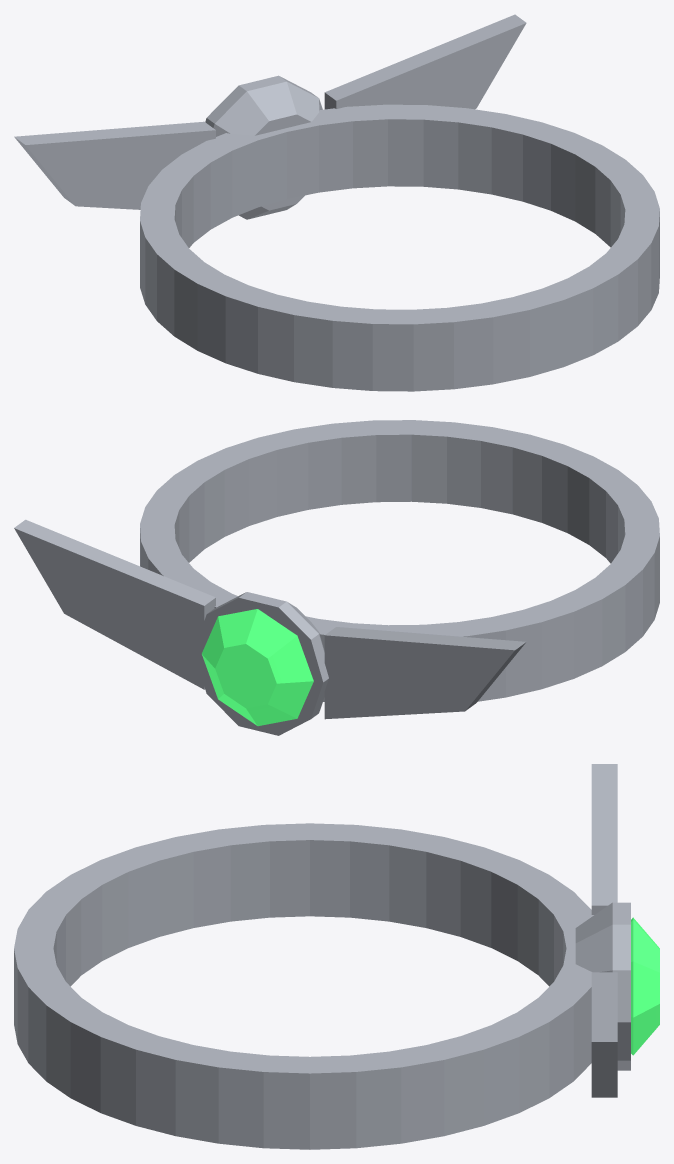
The model's file is ring_swift.glb.
The picture shows the model from 3 angles, top to bottom: view 1: azimuth 30°, elevation 25°; view 2: azimuth 150°, elevation 25°; view 3: azimuth 270°, elevation 25°; orthographic projection. The views are drawn at different scales.
Parts seen in each view (by area): view 1: Ring_Swift_Steel; view 2: Ring_Swift_Steel, Ring_Swift_Gem_agility; view 3: Ring_Swift_Steel, Ring_Swift_Gem_agility.
Boxes of the visible parts, left/top/right/bottom form: Ring_Swift_Steel: left=14, top=14, right=659, bottom=391; Ring_Swift_Steel: left=14, top=420, right=659, bottom=735; Ring_Swift_Gem_agility: left=202, top=609, right=313, bottom=726; Ring_Swift_Steel: left=14, top=764, right=630, bottom=1149; Ring_Swift_Gem_agility: left=631, top=917, right=659, bottom=1055.
Bounding box in the file's own units: 0.025 × 0.00656 × 0.0246.
